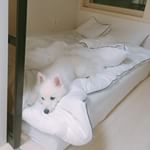puppy: (31, 67, 73, 117)
